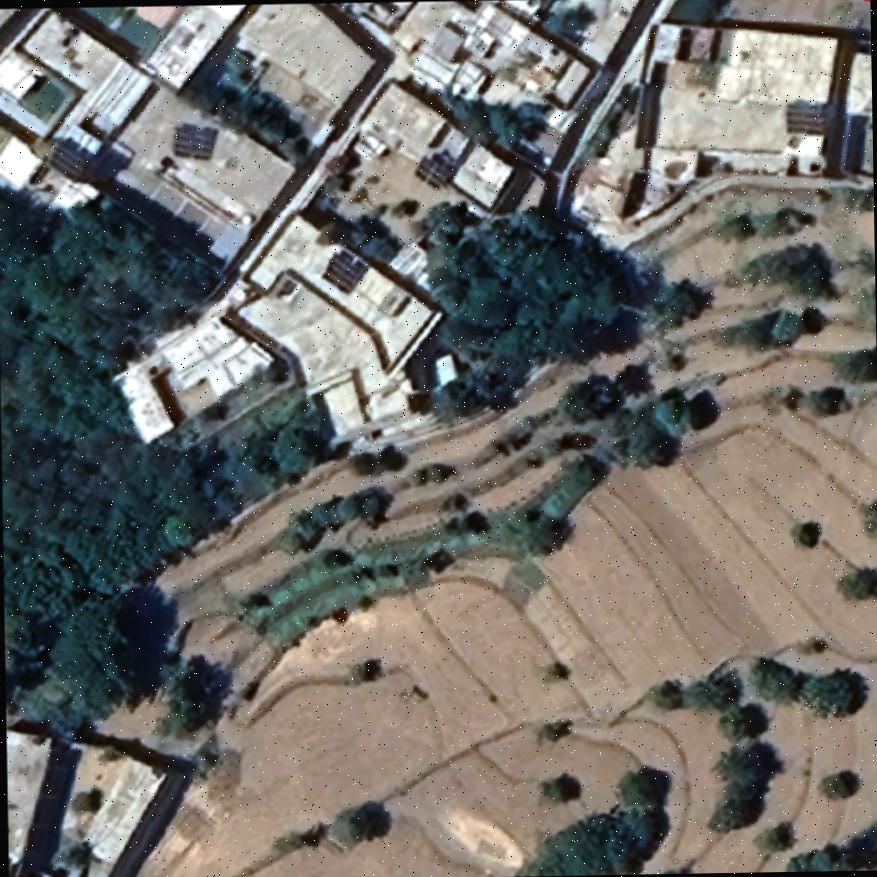Solarpanel: (318, 246, 368, 295), (42, 135, 89, 182), (168, 118, 218, 160), (781, 97, 828, 136), (412, 149, 456, 189)
